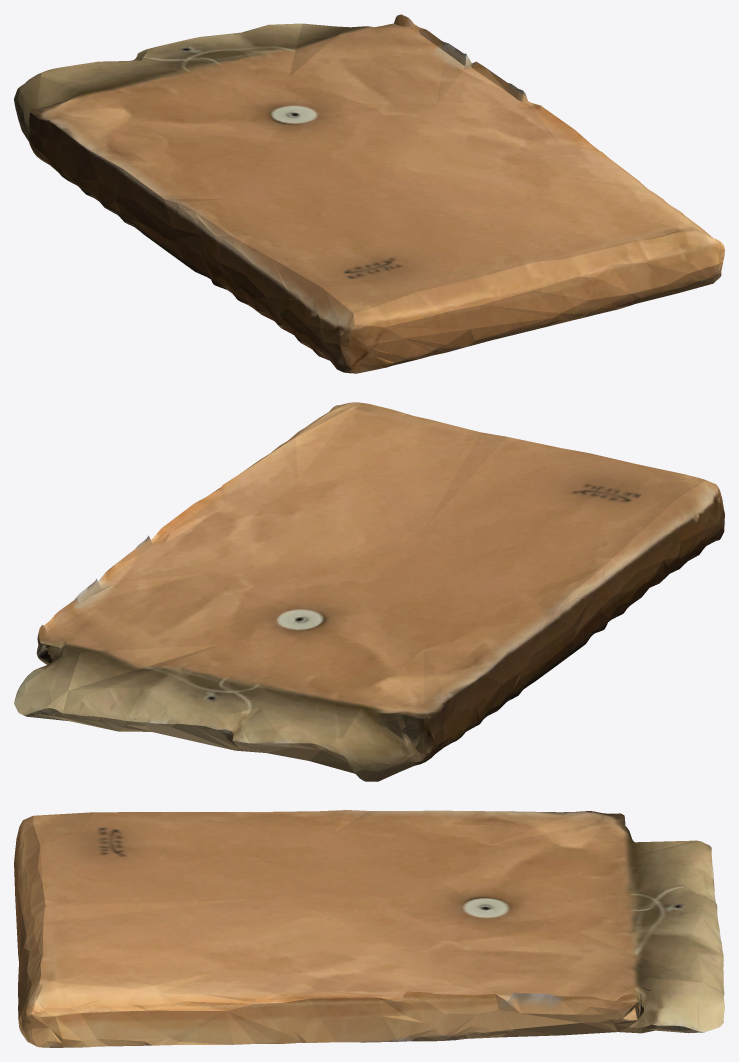
The model's file is Envelope.obj.
3 renders of one model, top to bottom at view 1: azimuth 30°, elevation 25°; view 2: azimuth 150°, elevation 25°; view 3: azimuth 270°, elevation 25°, orthographic. The views are drawn at different scales.
Bounding box in the file's own units: 86.52 × 12.19 × 135.
1 material, 1 textured.
